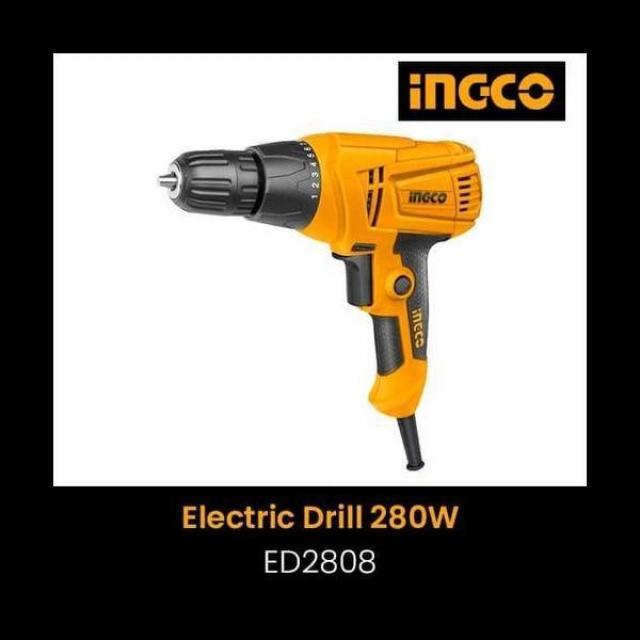drill: (158, 132, 484, 473)
